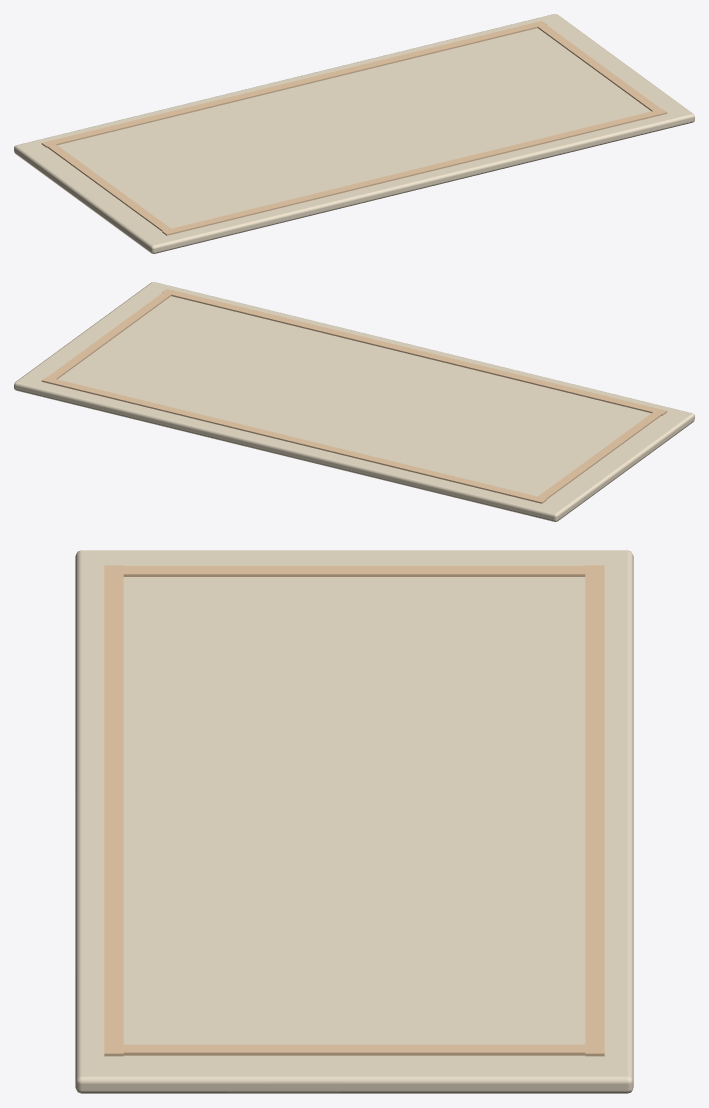
File: study_ref_entry_mat.glb
3 views of the same model, one above another, from view 1: azimuth 30°, elevation 25°; view 2: azimuth 150°, elevation 25°; view 3: azimuth 270°, elevation 25° (orthographic). The views are drawn at different scales.
Bounding box in the file's own units: 1.62 × 0.0305 × 0.72.
